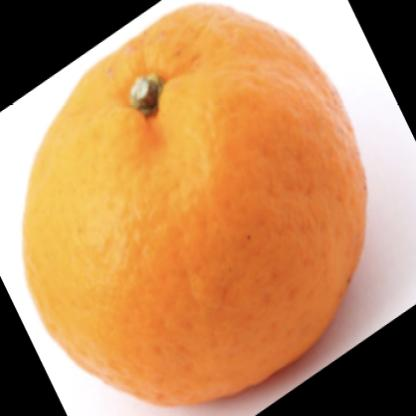fresh: (24, 4, 365, 406)
